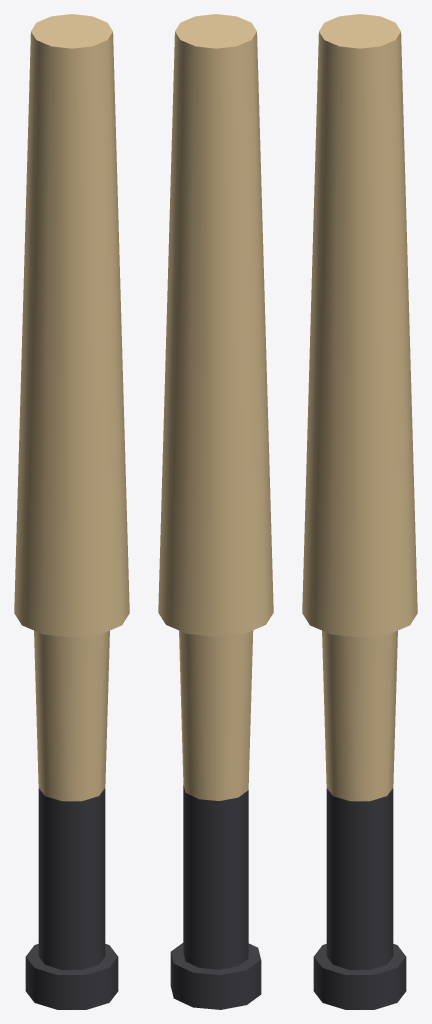
Rendered from bat.glb.
3 views of the same model, side by side, from view 1: azimuth 90°, elevation 25°; view 2: azimuth 150°, elevation 25°; view 3: azimuth 270°, elevation 25° (orthographic).
Parts seen in each view (by area): view 1: Barrel, Handle, GripTape, Knob; view 2: Barrel, Handle, GripTape, Knob; view 3: Barrel, Handle, GripTape, Knob.
Boxes of the visible parts, x1,y1,x2,y2 form: Barrel: (14,14,129,637); Handle: (34,630,109,801); GripTape: (38,788,105,969); Knob: (25,944,118,1009); Barrel: (158,14,273,636); Handle: (179,630,253,800); GripTape: (183,785,248,969); Knob: (170,943,261,1009); Barrel: (302,14,417,637); Handle: (322,630,397,801); GripTape: (326,788,393,969); Knob: (313,944,406,1009).
Bounding box in the file's own units: 0.09 × 0.825 × 0.09.
